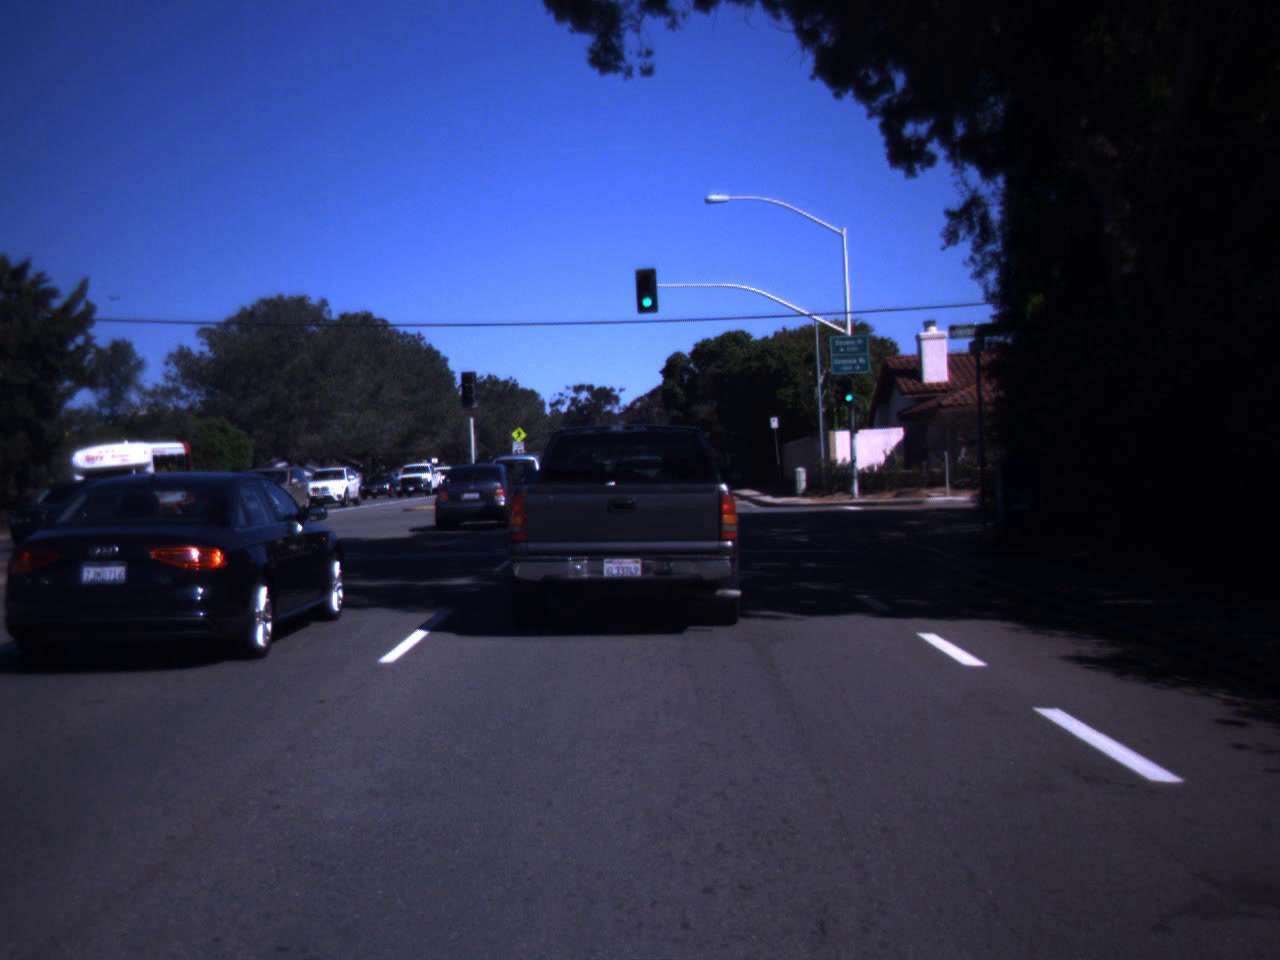go: (637, 270, 658, 310), (841, 382, 856, 402)
